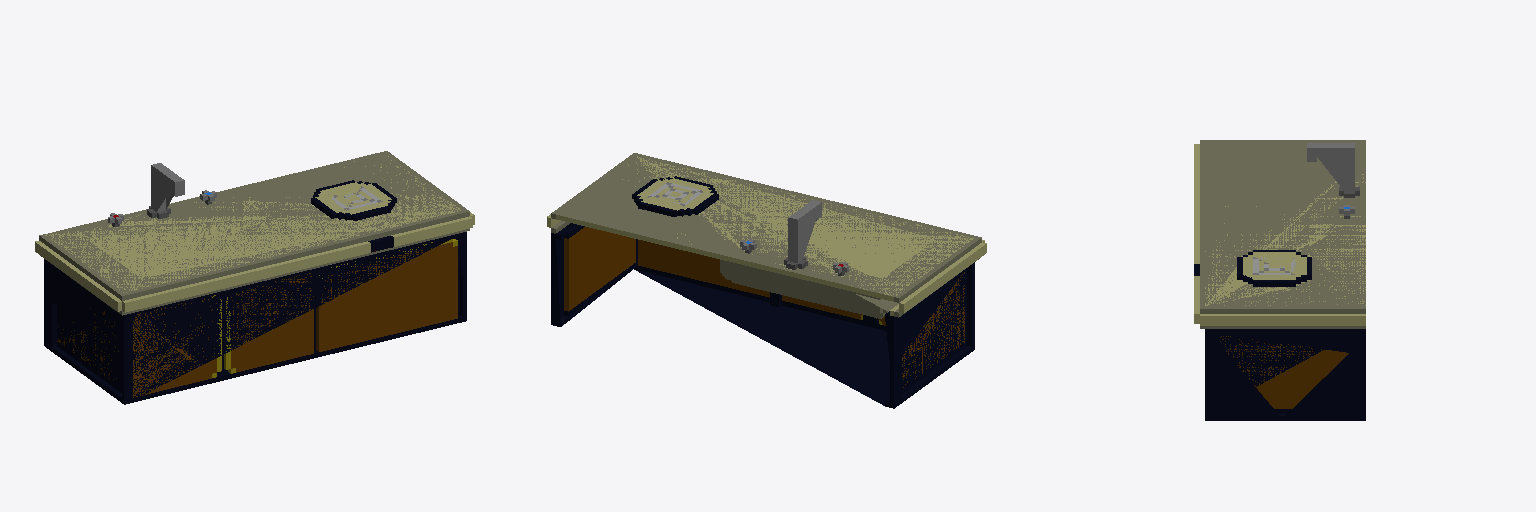
Rendered from Kitchen.obj.
3 views of the same model, side by side, from view 1: azimuth 30°, elevation 25°; view 2: azimuth 150°, elevation 25°; view 3: azimuth 270°, elevation 25° (orthographic).
Visible parts, largest first — view 1: Kitchen_Kitchen.030; view 2: Kitchen_Kitchen.030; view 3: Kitchen_Kitchen.030.
Boxes of the visible parts, box(x1,y1,x2,y2) form: Kitchen_Kitchen.030: box(35, 151, 474, 404); Kitchen_Kitchen.030: box(547, 153, 986, 408); Kitchen_Kitchen.030: box(1194, 140, 1365, 420).
Size of the model in its own units: 4.81 by 2.06 by 2.